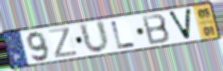9: (25, 30, 52, 63)
B: (140, 13, 172, 47)
L: (110, 20, 138, 50)
U: (77, 19, 112, 55)
V: (166, 7, 194, 41)
Z: (47, 26, 80, 59)
